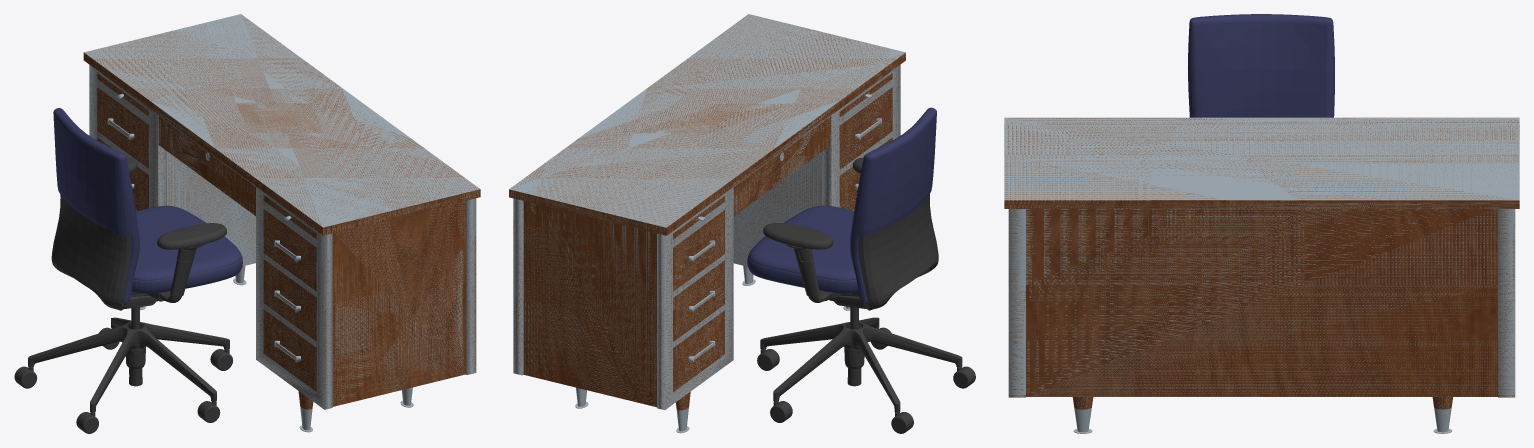
Rendered from Docenttafel en stoel apart.fbx.
The picture shows the model from 3 angles, left to right: view 1: azimuth 30°, elevation 25°; view 2: azimuth 150°, elevation 25°; view 3: azimuth 270°, elevation 25°; orthographic projection. The views are drawn at different scales.
Parts seen in each view (by area): view 1: ID271, ID255, ID242, _72VITRA_CITTERIO_D3_ID_SOFT_BACK, _72VITRA_CITTERIO_D3_ID_SOFT_PLASTIC, _72VITRA_CITTERIO_D3_ID_SEAT, VITRA_CITTERIO_ID_BASE, ID303, Teacher_Desk, ID333, ID341, ID311 (+5 smaller); view 2: ID271, ID255, ID242, _72VITRA_CITTERIO_D3_ID_SOFT_BACK, _72VITRA_CITTERIO_D3_ID_SOFT_PLASTIC, _72VITRA_CITTERIO_D3_ID_SEAT, VITRA_CITTERIO_ID_BASE, ID303, Teacher_Desk, ID333, ID365, ID381 (+5 smaller); view 3: ID255, ID271, _72VITRA_CITTERIO_D3_ID_SOFT_BACK, Teacher_Desk, ID263, ID295.
Part boxes in pixels (x1,y1,x2,y2): ID271: (84,14,479,227); ID255: (158,116,465,406); ID242: (89,65,332,409); _72VITRA_CITTERIO_D3_ID_SOFT_BACK: (53,108,139,303); _72VITRA_CITTERIO_D3_ID_SOFT_PLASTIC: (51,194,154,310); _72VITRA_CITTERIO_D3_ID_SEAT: (131,205,242,293); VITRA_CITTERIO_ID_BASE: (28,317,229,412); ID303: (167,151,255,266); Teacher_Desk: (83,52,480,235); ID333: (263,209,316,291); ID341: (263,259,316,341); ID311: (263,309,316,391); ID271: (509,14,905,227); ID255: (523,116,830,407); ID242: (657,65,900,409); _72VITRA_CITTERIO_D3_ID_SOFT_BACK: (850,107,936,303); _72VITRA_CITTERIO_D3_ID_SOFT_PLASTIC: (835,194,938,310); _72VITRA_CITTERIO_D3_ID_SEAT: (747,205,858,293); VITRA_CITTERIO_ID_BASE: (760,317,962,412); ID303: (733,151,822,266); Teacher_Desk: (509,53,905,235); ID333: (839,87,892,169); ID365: (673,210,724,291); ID381: (673,260,724,341); ID255: (1026,209,1497,396); ID271: (1004,117,1519,200); _72VITRA_CITTERIO_D3_ID_SOFT_BACK: (1188,14,1334,117); Teacher_Desk: (1004,200,1519,208); ID263: (1498,209,1515,397); ID295: (1008,209,1025,397).
Size of the model in its own units: 45.22 by 60 by 37.27.
7 materials, 2 textured.
